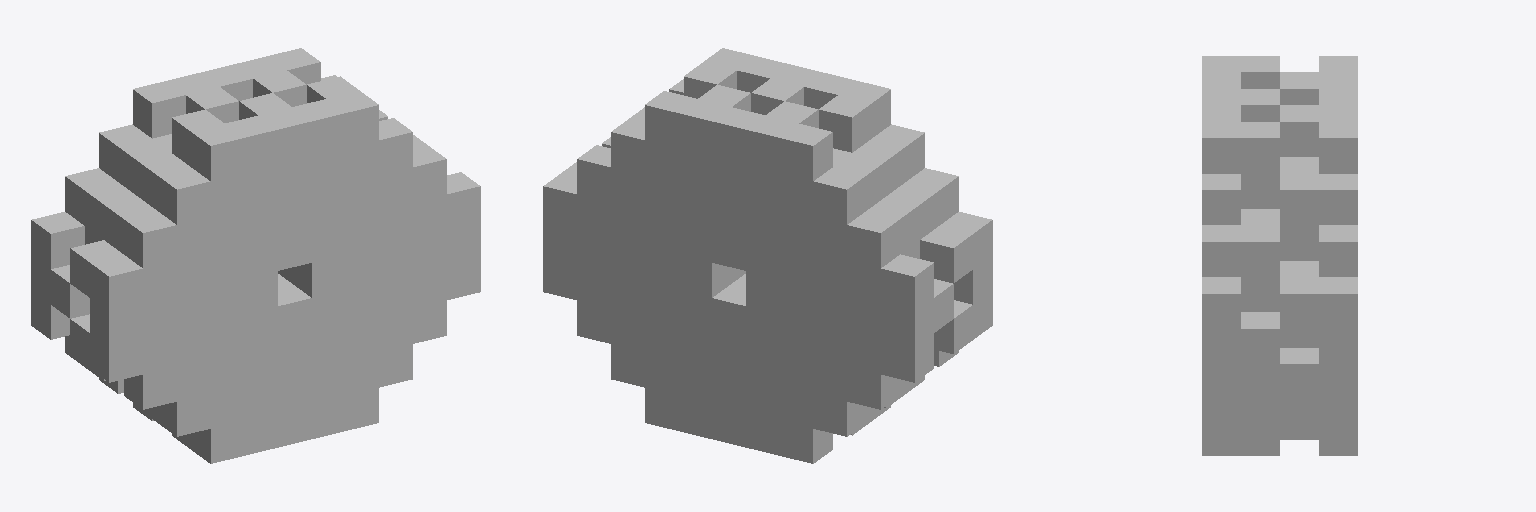
Rendered from wheel.obj.
3 views of the same model, side by side, from view 1: azimuth 30°, elevation 25°; view 2: azimuth 150°, elevation 25°; view 3: azimuth 270°, elevation 25° (orthographic).
Visible parts, largest first — view 1: object 1; view 2: object 1; view 3: object 1.
Part boxes in pixels (x1,y1,x2,y2): object 1: (31,48,480,463); object 1: (543,48,992,463); object 1: (1202,56,1357,455).
Bounding box in the file's own units: 1.1 × 0.9 × 0.4.